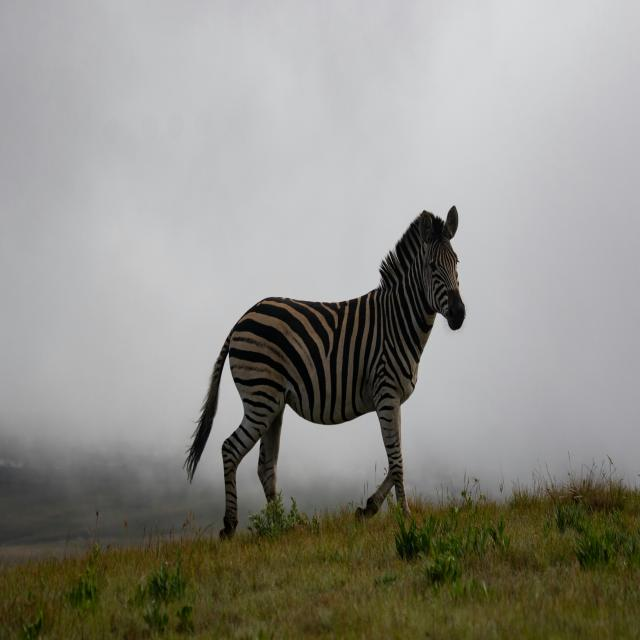Zebra: (184, 204, 467, 543)
